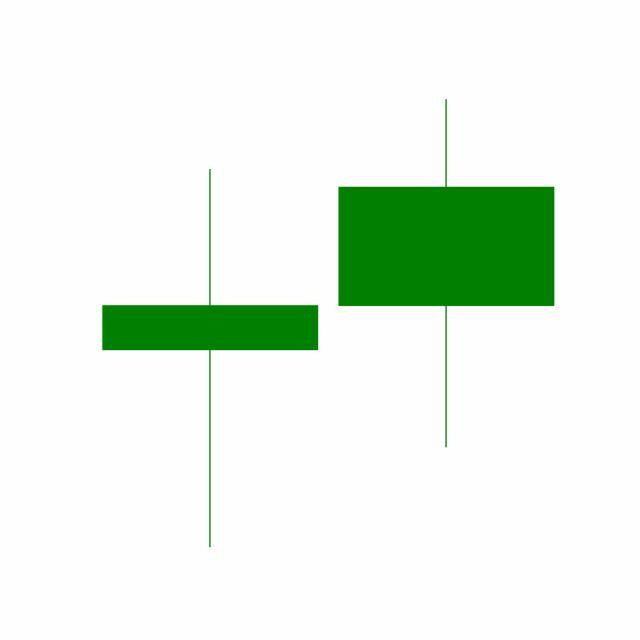Hanging Man: (328, 97, 566, 453)
